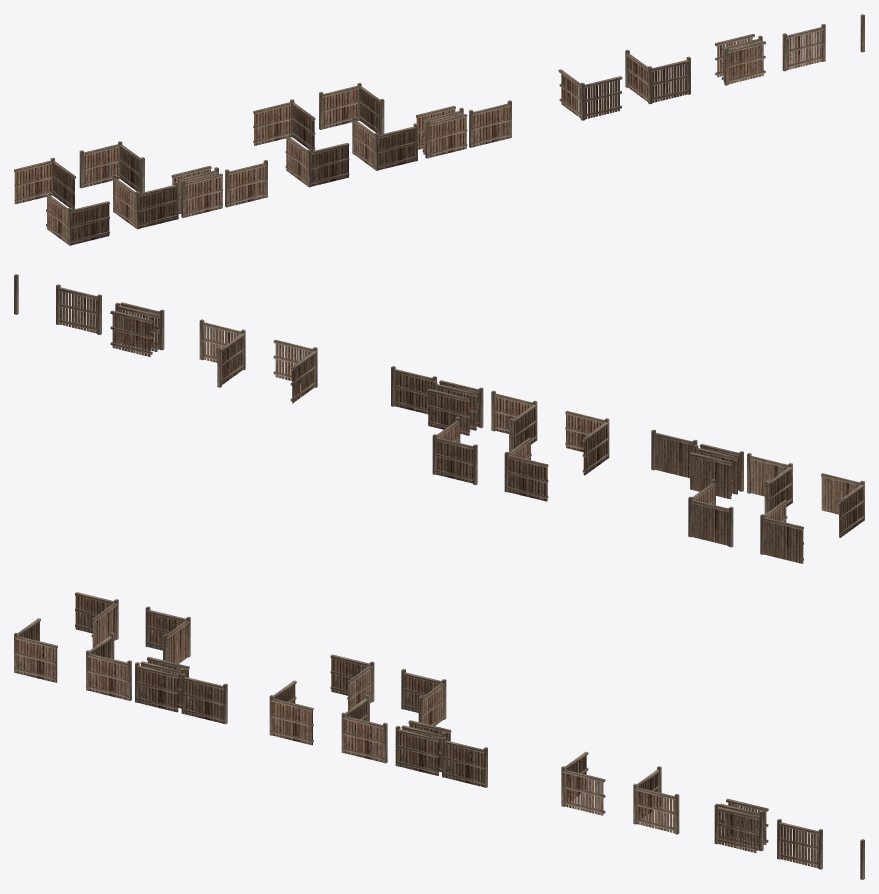
The model's file is plank_fence_without_proxy.fbx.
3 views of the same model, one above another, from view 1: azimuth 30°, elevation 25°; view 2: azimuth 150°, elevation 25°; view 3: azimuth 330°, elevation 25° (orthographic). The views are drawn at different scales.
Parts seen in each view (by area): view 1: plank_fence_b_corner_in, plank_fence_a_corner_in, plank_fence_a_corner_out, plank_fence_c_corner, plank_fence_b_corner_out, plank_fence_a_corner_in_nocol, plank_fence_b_corner_in_nocol, plank_fence_b_corner_out_nocol, plank_fence_a_corner_out_nocol, plank_fence_c_corner_nocol, plank_fence_c, plank_fence_a (+6 smaller); view 2: plank_fence_c_corner, plank_fence_b_corner_out, plank_fence_a_corner_out, plank_fence_b_corner_in_nocol, plank_fence_b_corner_out_nocol, plank_fence_b_corner_in, plank_fence_a_corner_out_nocol, plank_fence_a_corner_in_nocol, plank_fence_a_corner_in, plank_fence_c_corner_nocol, plank_fence_c, plank_fence_a (+6 smaller); view 3: plank_fence_b_corner_in, plank_fence_c_corner, plank_fence_a_corner_in, plank_fence_b_corner_in_nocol, plank_fence_a_corner_in_nocol, plank_fence_a_corner_out, plank_fence_b_corner_out, plank_fence_c_corner_nocol, plank_fence_a, plank_fence_b_corner_out_nocol, plank_fence_a_corner_out_nocol, plank_fence_b (+6 smaller).
Part boxes in pixels (<box>): plank_fence_b_corner_in: <box>352,116,417,170</box>; plank_fence_a_corner_in: <box>113,174,178,229</box>; plank_fence_a_corner_out: <box>79,141,144,193</box>; plank_fence_c_corner: <box>625,49,690,104</box>; plank_fence_b_corner_out: <box>319,83,384,134</box>; plank_fence_a_corner_in_nocol: <box>46,194,109,245</box>; plank_fence_b_corner_in_nocol: <box>285,136,349,187</box>; plank_fence_b_corner_out_nocol: <box>253,99,315,151</box>; plank_fence_a_corner_out_nocol: <box>14,157,75,209</box>; plank_fence_c_corner_nocol: <box>558,69,622,120</box>; plank_fence_c: <box>782,24,825,71</box>; plank_fence_a: <box>225,160,267,207</box>; plank_fence_c_corner: <box>199,319,245,387</box>; plank_fence_b_corner_out: <box>432,416,477,484</box>; plank_fence_a_corner_out: <box>688,479,733,547</box>; plank_fence_b_corner_in_nocol: <box>565,411,609,475</box>; plank_fence_b_corner_out_nocol: <box>504,437,548,501</box>; plank_fence_b_corner_in: <box>491,390,537,451</box>; plank_fence_a_corner_out_nocol: <box>760,500,803,563</box>; plank_fence_a_corner_in_nocol: <box>821,473,864,537</box>; plank_fence_a_corner_in: <box>747,453,792,514</box>; plank_fence_c_corner_nocol: <box>273,339,317,403</box>; plank_fence_c: <box>56,284,101,334</box>; plank_fence_a: <box>651,429,697,478</box>; plank_fence_b_corner_in: <box>341,695,387,763</box>; plank_fence_c_corner: <box>633,766,679,834</box>; plank_fence_a_corner_in: <box>86,632,131,700</box>; plank_fence_b_corner_in_nocol: <box>269,680,313,745</box>; plank_fence_a_corner_in_nocol: <box>14,618,57,682</box>; plank_fence_a_corner_out: <box>145,606,190,663</box>; plank_fence_b_corner_out: <box>401,669,446,725</box>; plank_fence_c_corner_nocol: <box>561,751,605,815</box>; plank_fence_a: <box>181,673,227,724</box>; plank_fence_b_corner_out_nocol: <box>330,654,374,710</box>; plank_fence_a_corner_out_nocol: <box>75,592,118,647</box>; plank_fence_b: <box>442,737,487,787</box>.
Size of the model in its own units: 5496 by 243 by 691.
